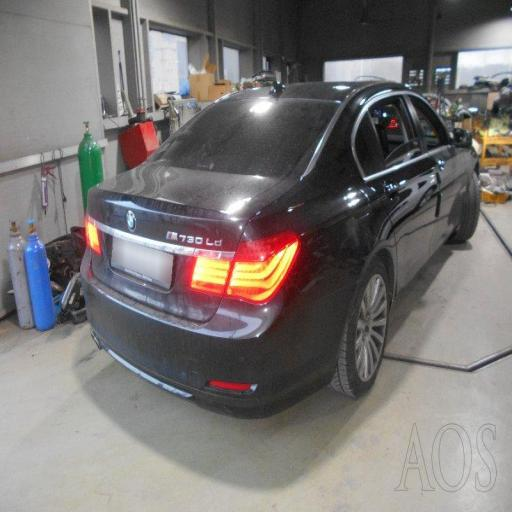normal: (107, 39, 454, 379)
